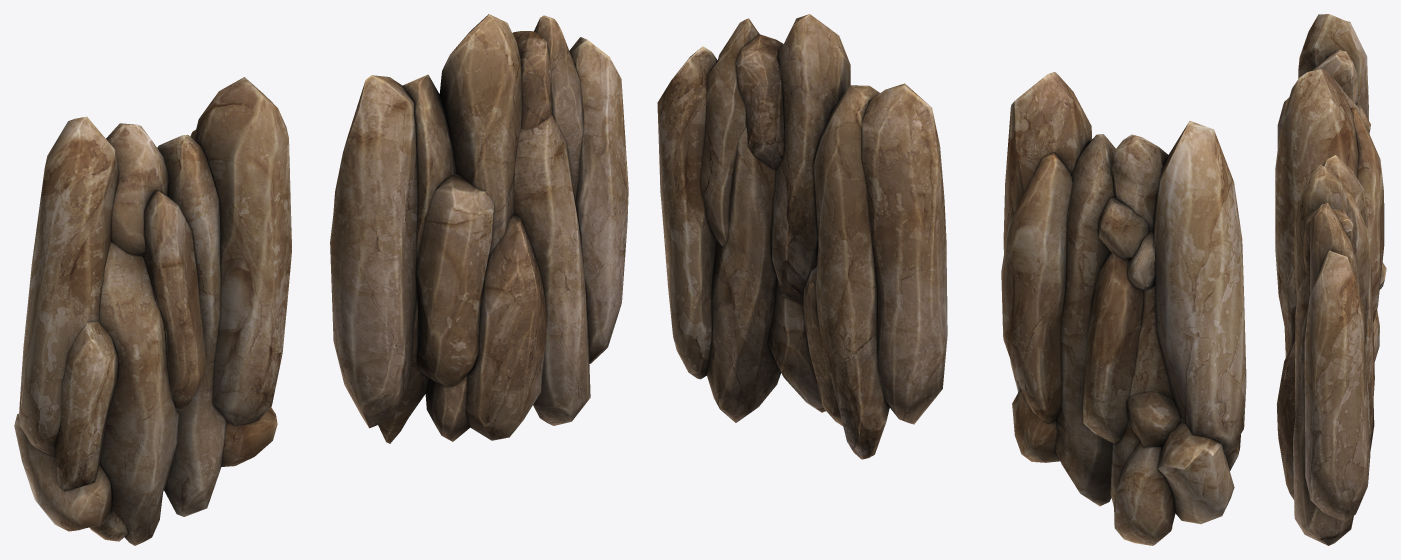
File: BSwap_RockForms_02.fbx
The picture shows the model from 3 angles, left to right: view 1: azimuth 30°, elevation 25°; view 2: azimuth 150°, elevation 25°; view 3: azimuth 270°, elevation 25°; orthographic projection. The views are drawn at different scales.
Parts seen in each view (by area): view 1: RockForm04_LP, RockForm03_LP; view 2: RockForm04_LP, RockForm03_LP; view 3: RockForm04_LP, RockForm03_LP.
Boxes of the visible parts, left/top/right/bottom form: RockForm04_LP: left=330, top=14, right=628, bottom=443; RockForm03_LP: left=14, top=77, right=291, bottom=545; RockForm04_LP: left=657, top=14, right=947, bottom=459; RockForm03_LP: left=1001, top=72, right=1246, bottom=545; RockForm04_LP: left=1276, top=155, right=1374, bottom=545; RockForm03_LP: left=1275, top=14, right=1386, bottom=361.
Size of the model in its own units: 1819 by 1320 by 361.
